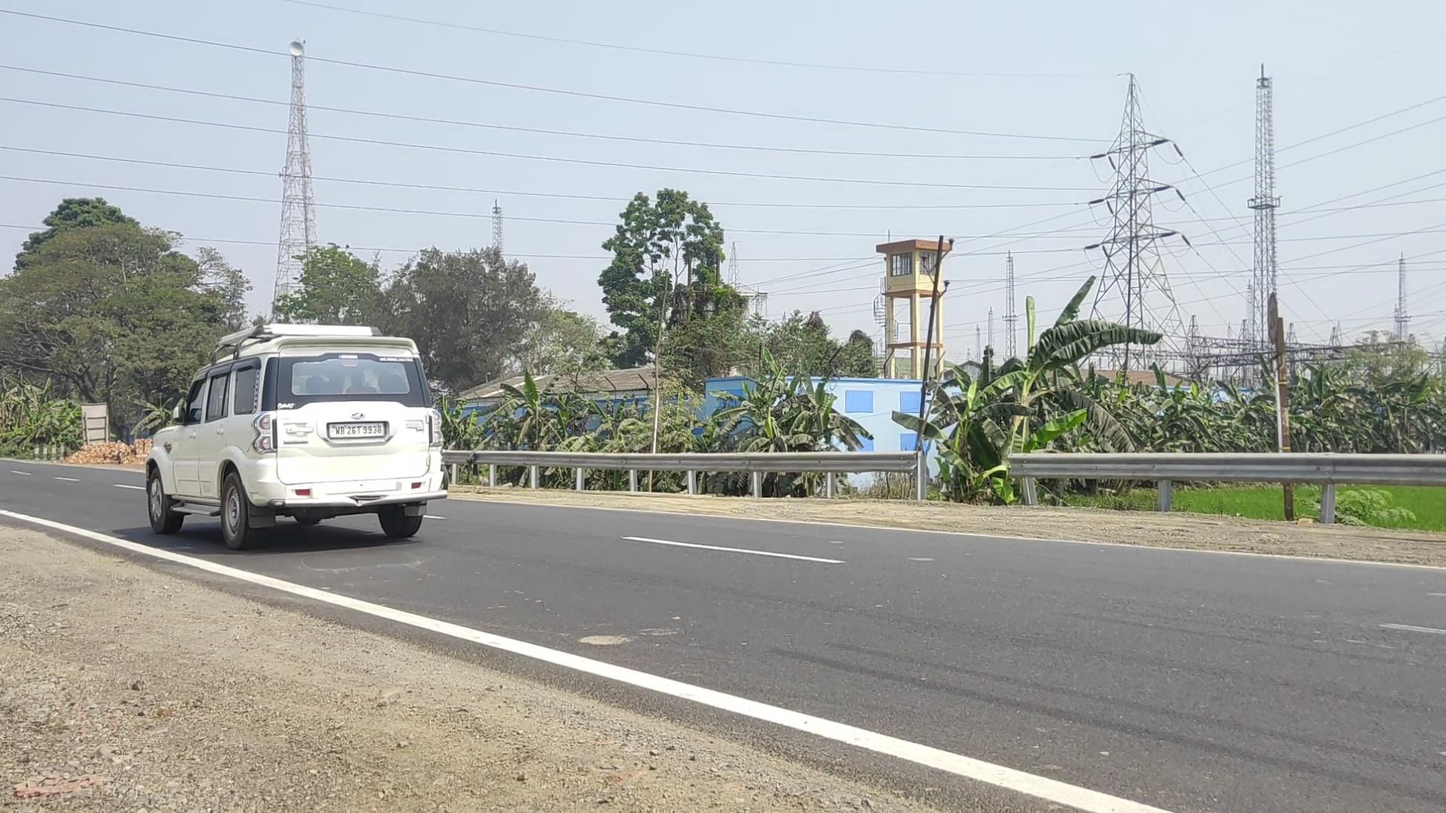car: (145, 323, 447, 551)
